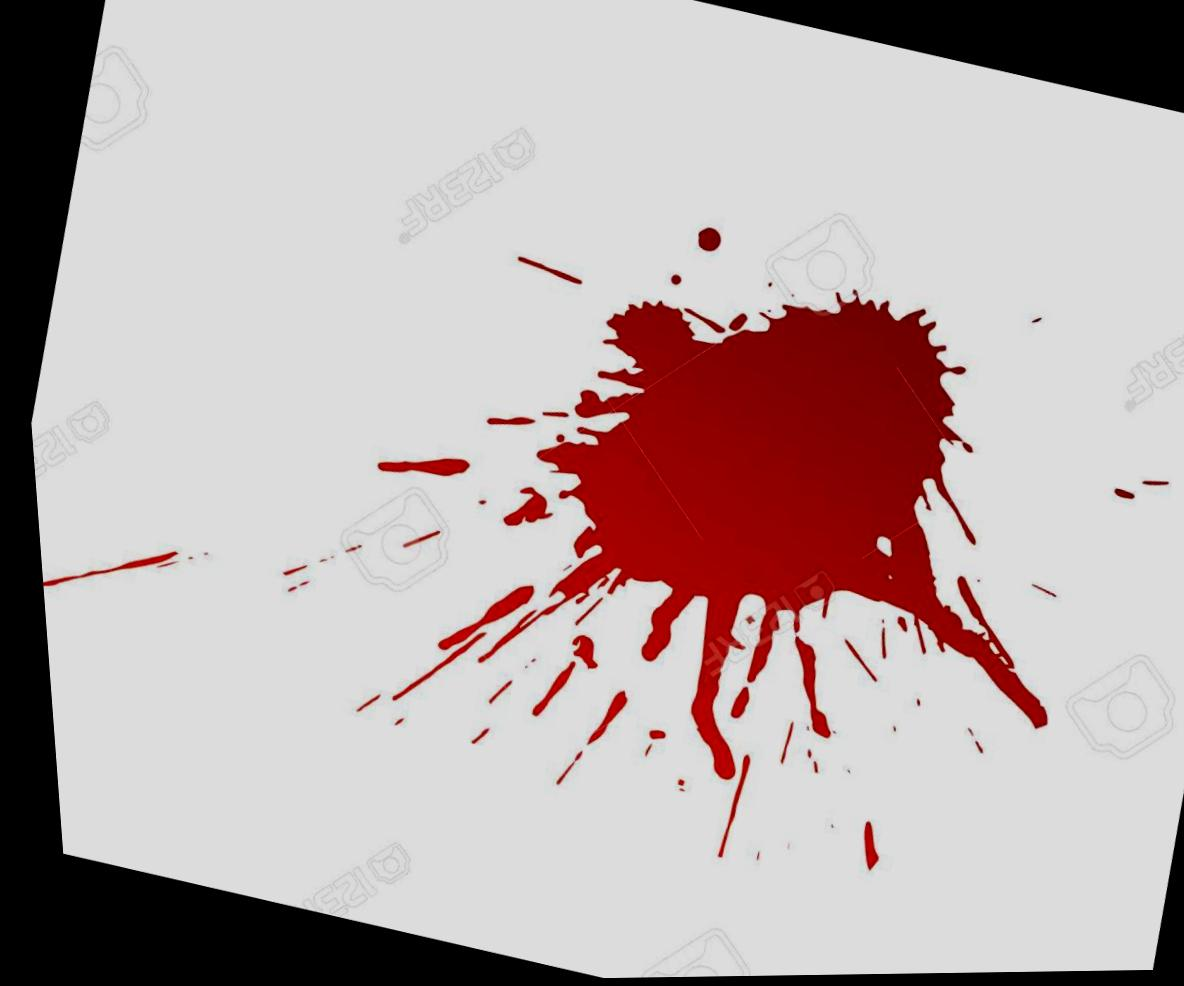Fire: (467, 292, 1036, 783)
